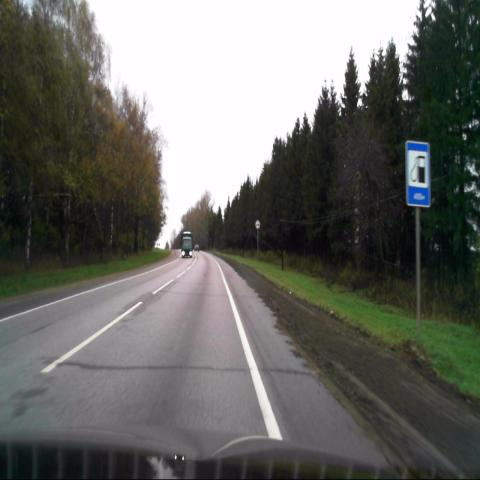7_3: (406, 140, 430, 204)
